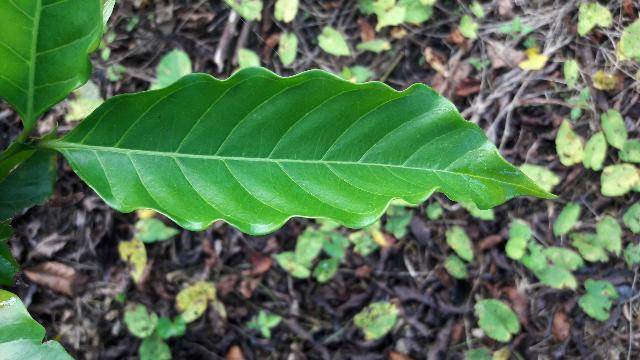healthy: (59, 67, 562, 235)
